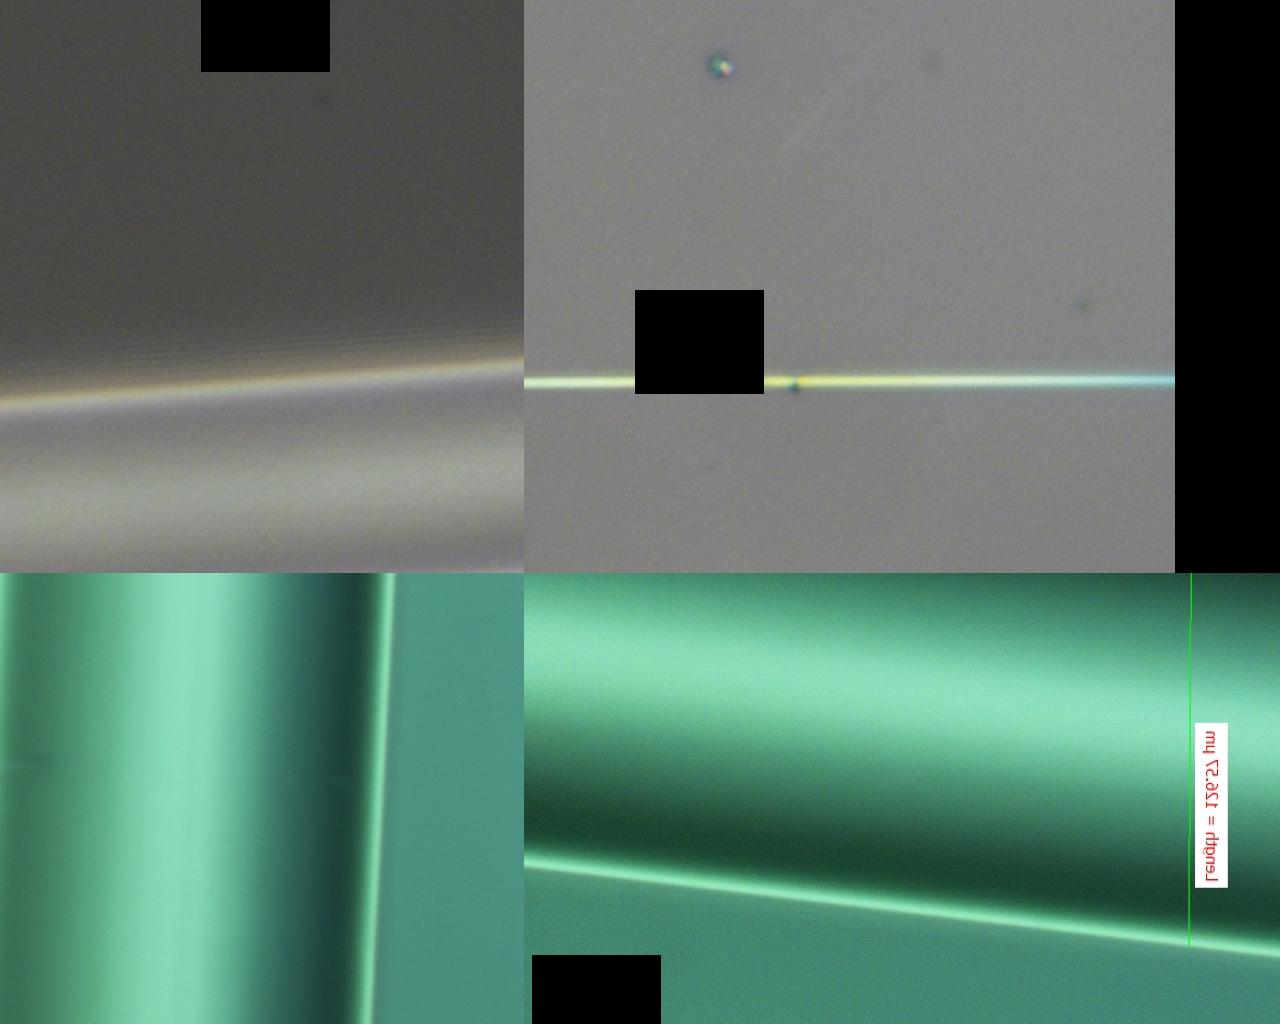fiber: (904, 100, 1280, 510), (0, 56, 793, 237), (140, 593, 472, 1024)
